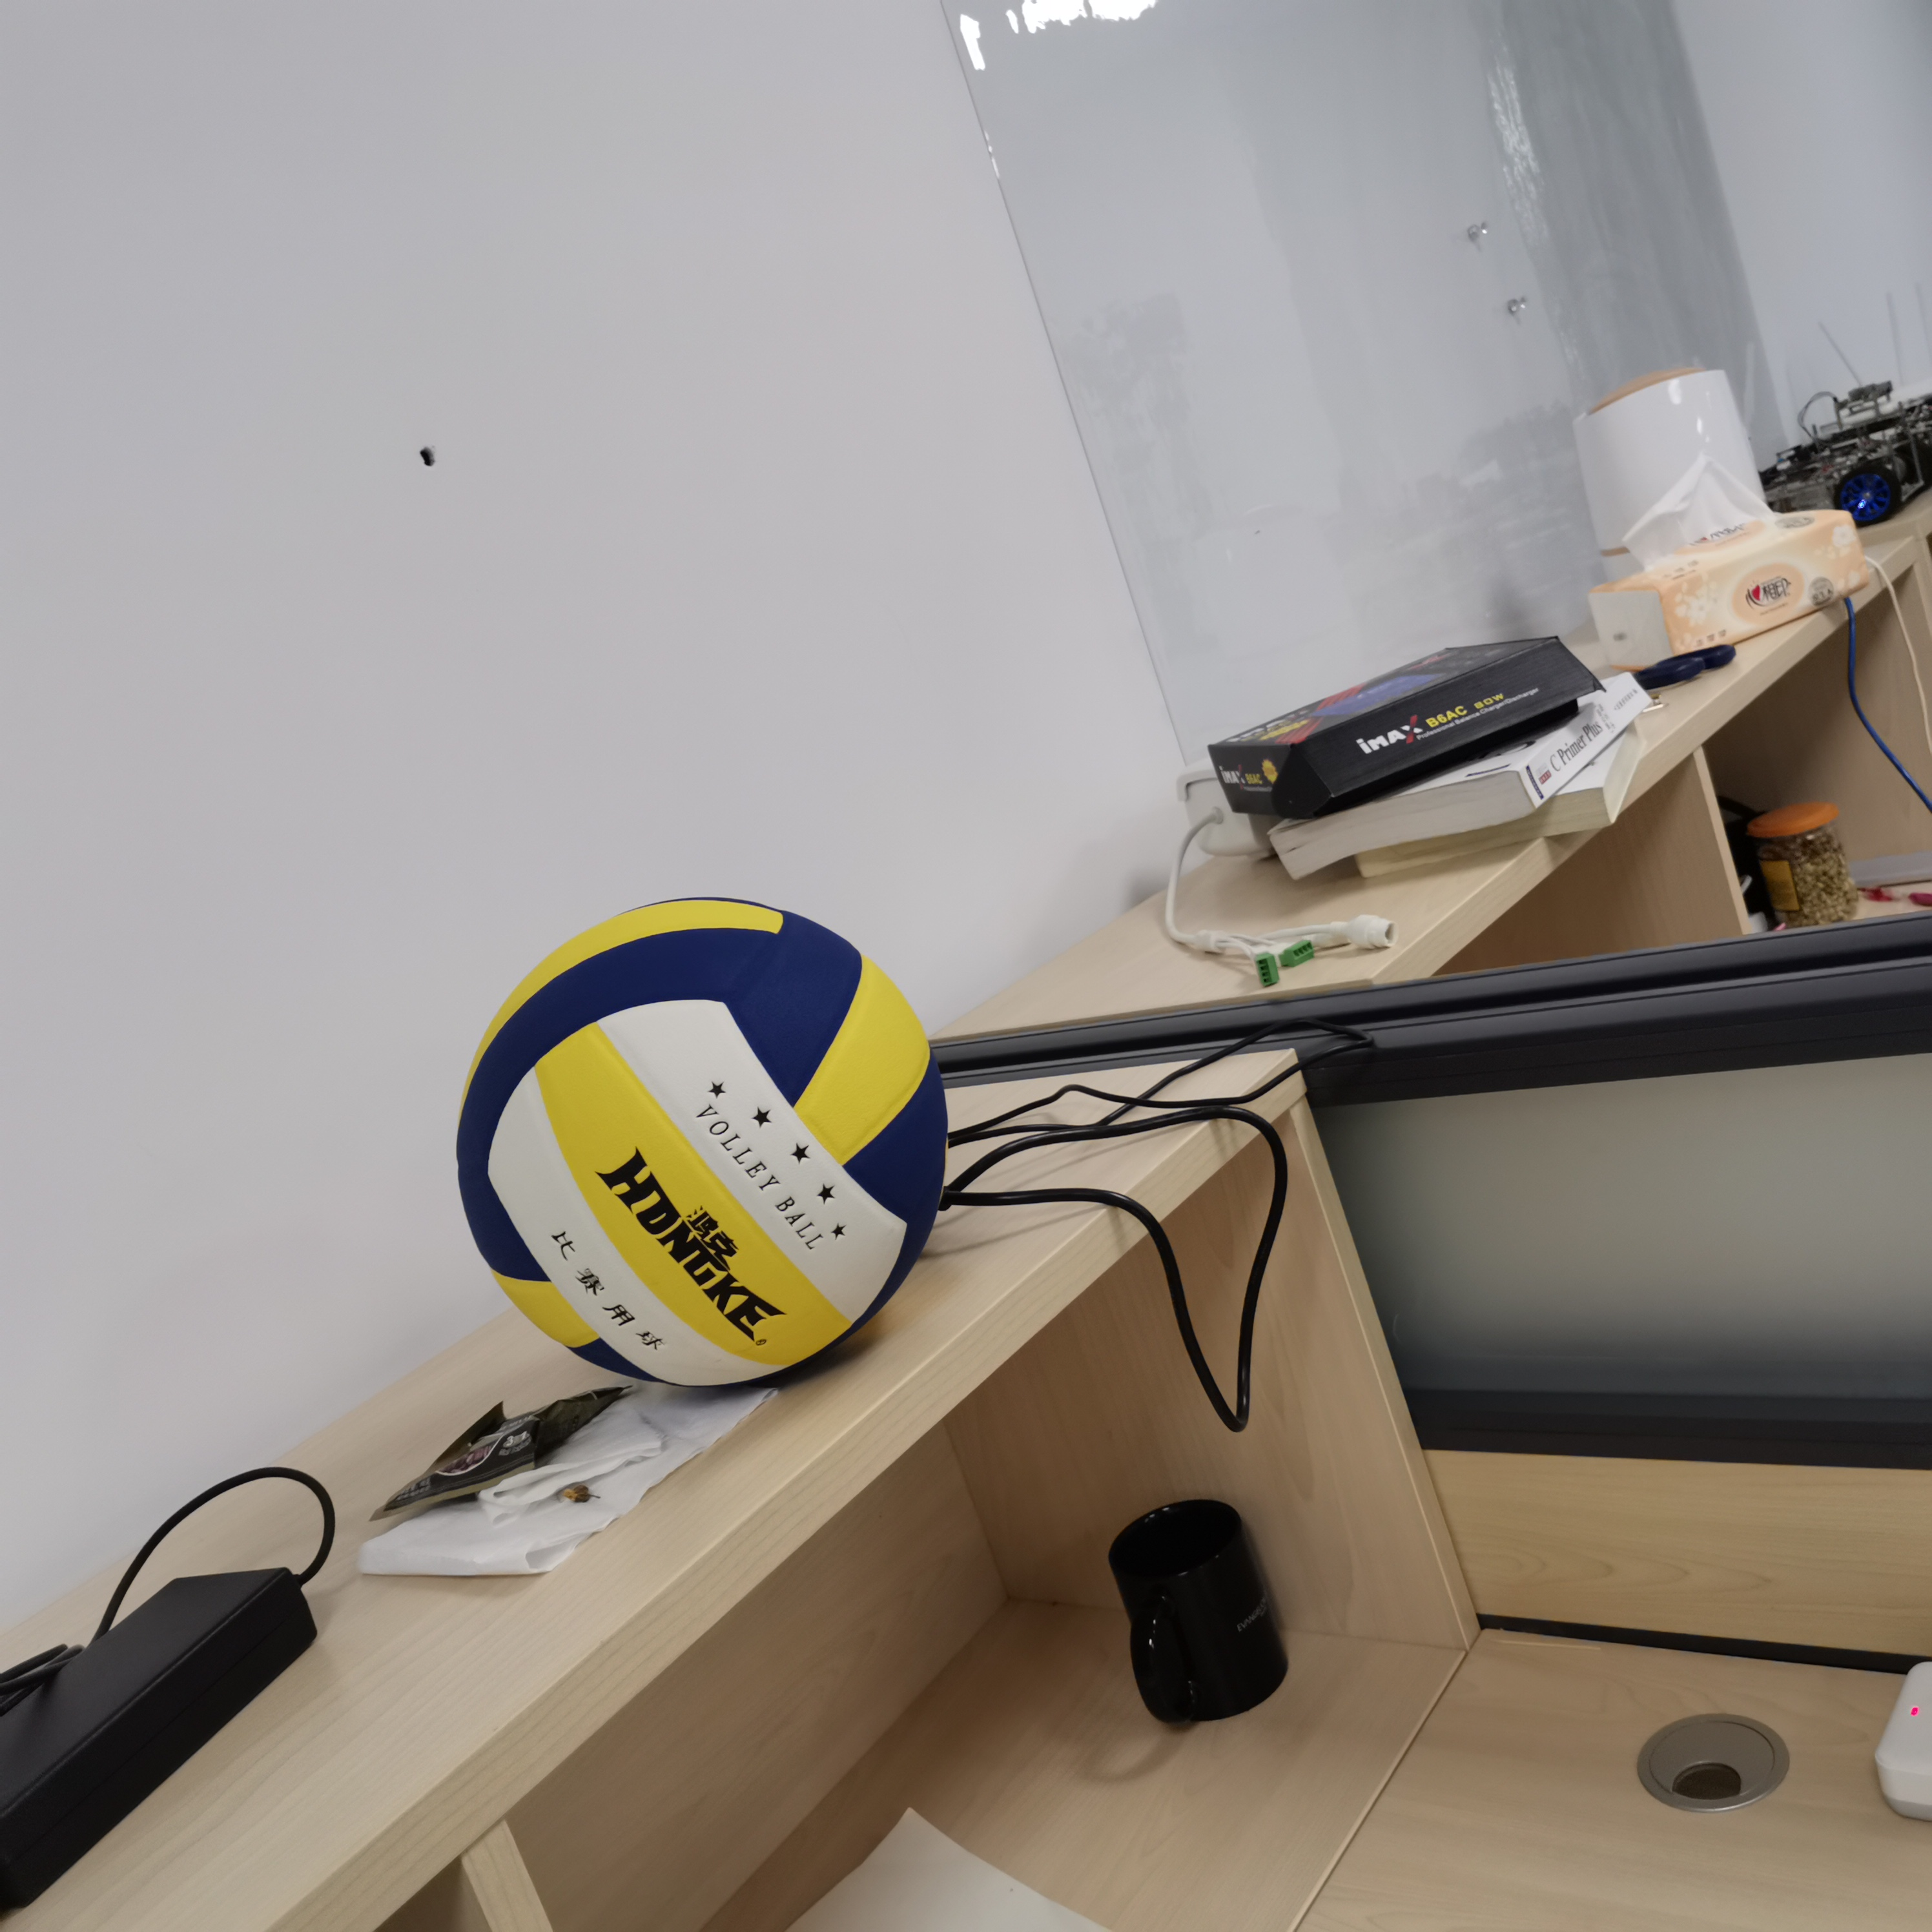volleyball: (458, 899, 950, 1385)
